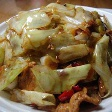juanxincairoupian: (1, 3, 112, 112)
